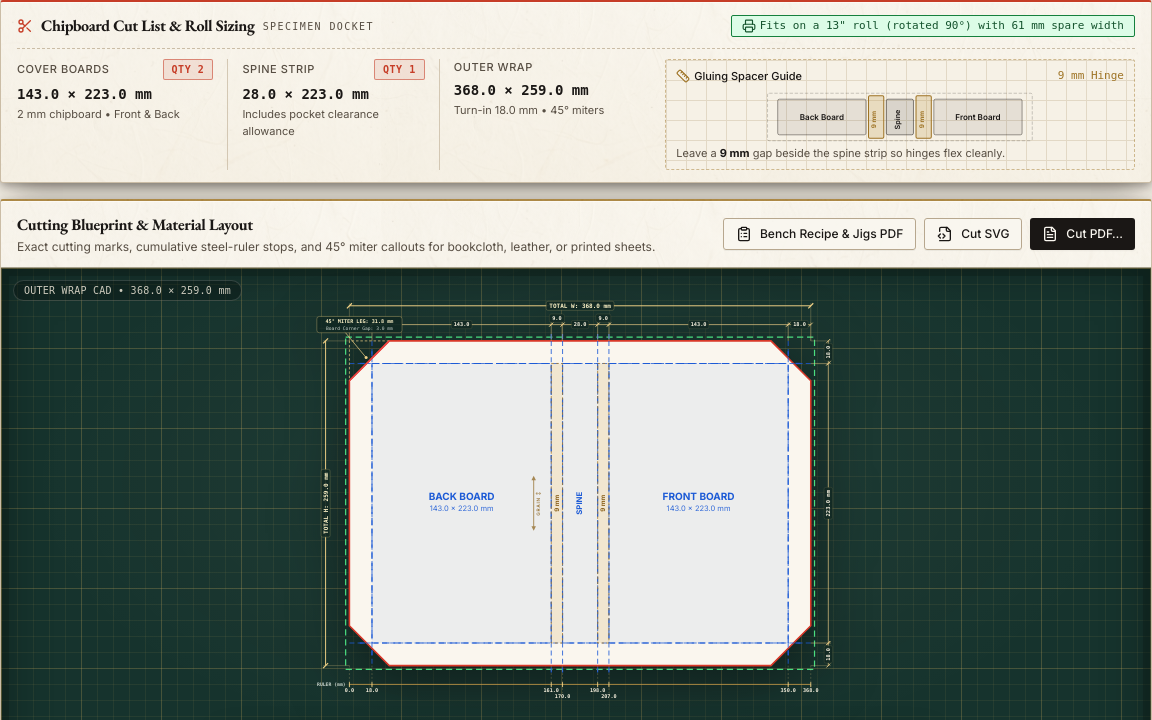
MeasureAndCutPanel › downloads the Printable Bench Recipe & Cutting Jigs PDF and renders the collapsible SlipcaseCard
Click the button with test id "measure-download-bench-jigs-btn": coordinates (820, 234) x1=723 y1=218 x2=916 y2=250
(page scrolled)
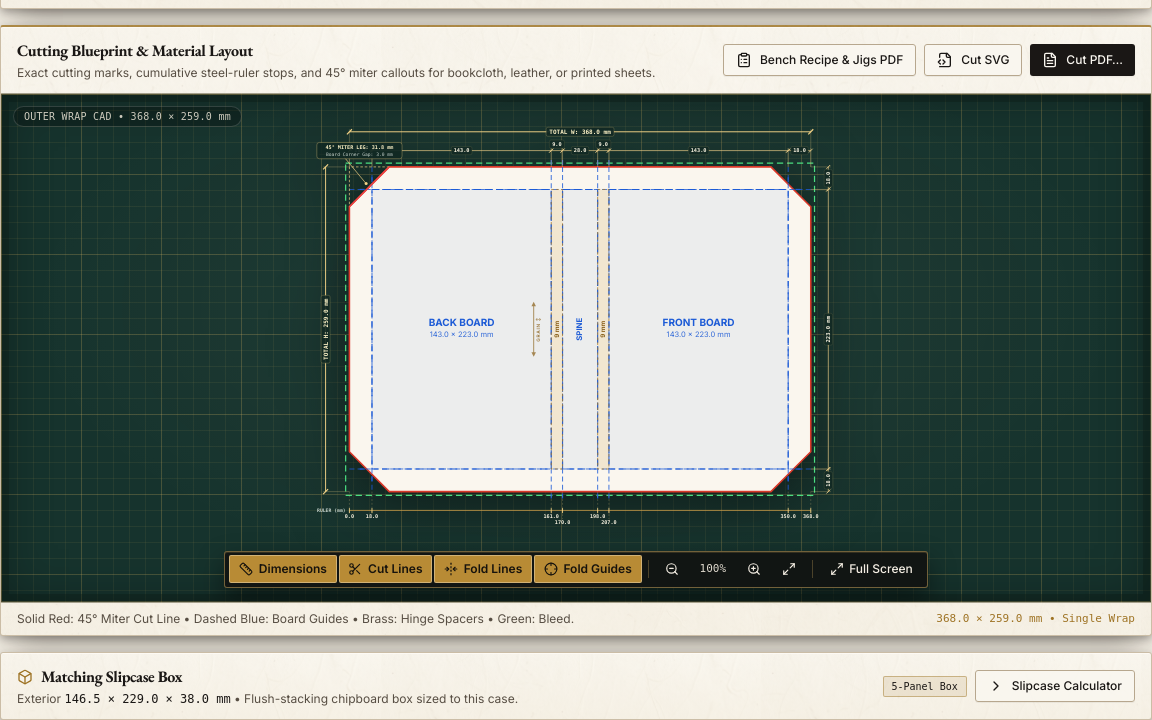
Expected: the element with test id "slipcase-card" is shown, x1=0 y1=652 x2=1151 y2=719
Click the button with test id "toggle-slipcase-calculator": coordinates (1055, 686) x1=975 y1=670 x2=1135 y2=702
(page scrolled)
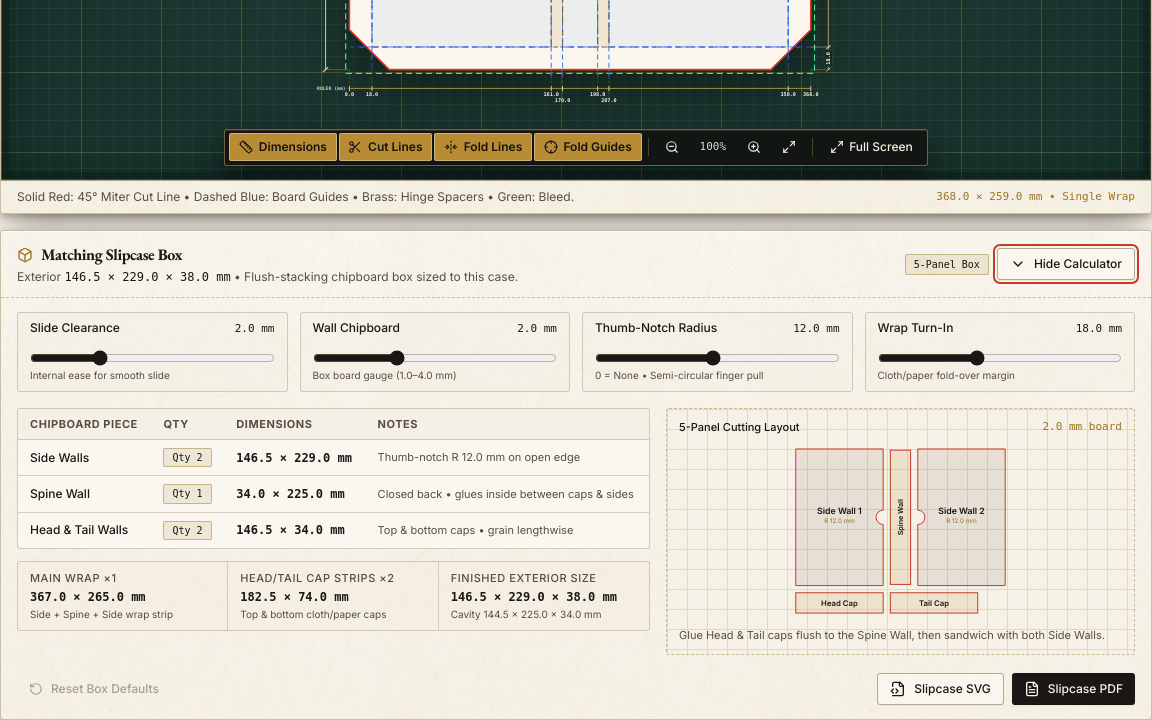
Result: the table with test id "slipcase-cut-table" is shown at x1=18 y1=408 x2=649 y2=548
